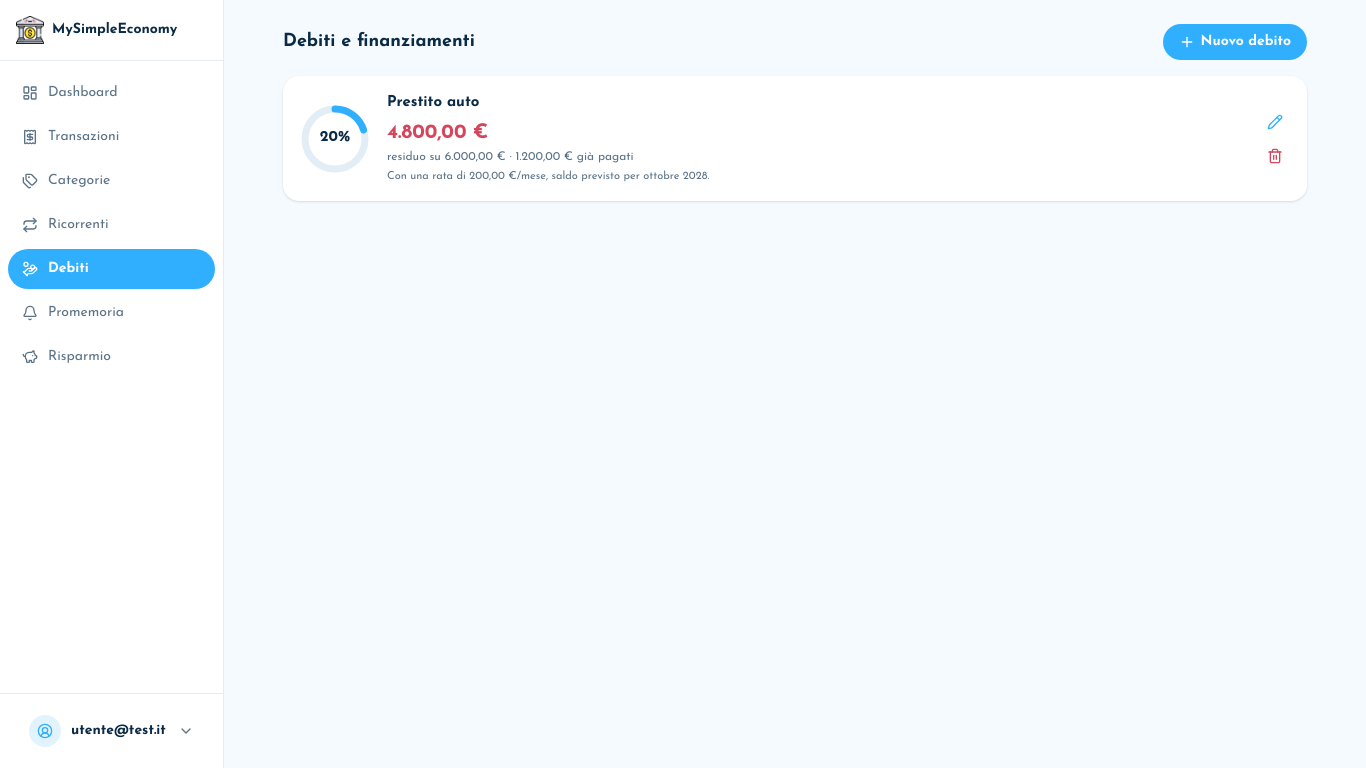
Scenario: tornare su una pagina già vista › con dati scaduti mostra quelli in cache e intanto li aggiorna
Expected: the text "Prestito auto" is shown, [387, 95, 479, 110]
Click the link "Promemoria": click(73, 313) [22, 305, 124, 321]
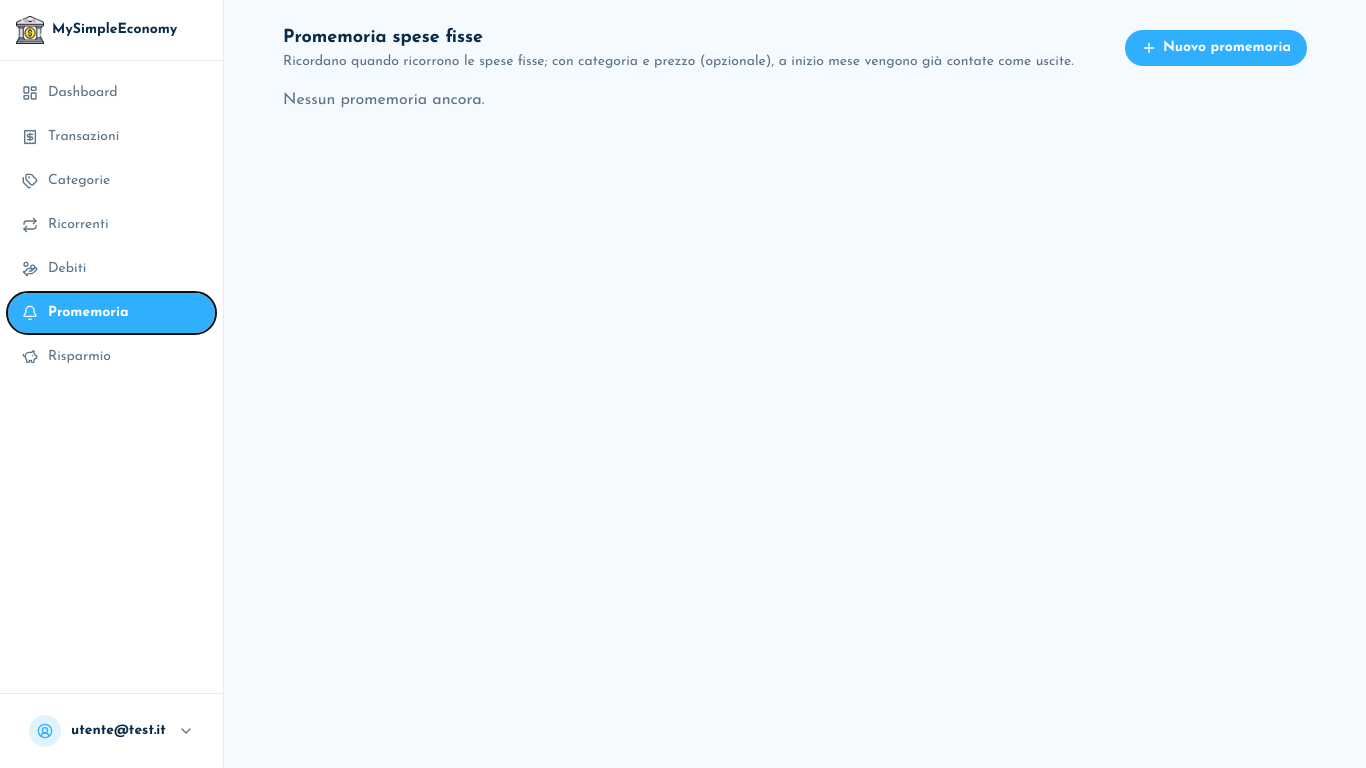
Result: the heading "Promemoria spese fisse" is shown at [283, 28, 483, 47]
Click the link "Debiti": click(54, 269) [22, 261, 86, 277]
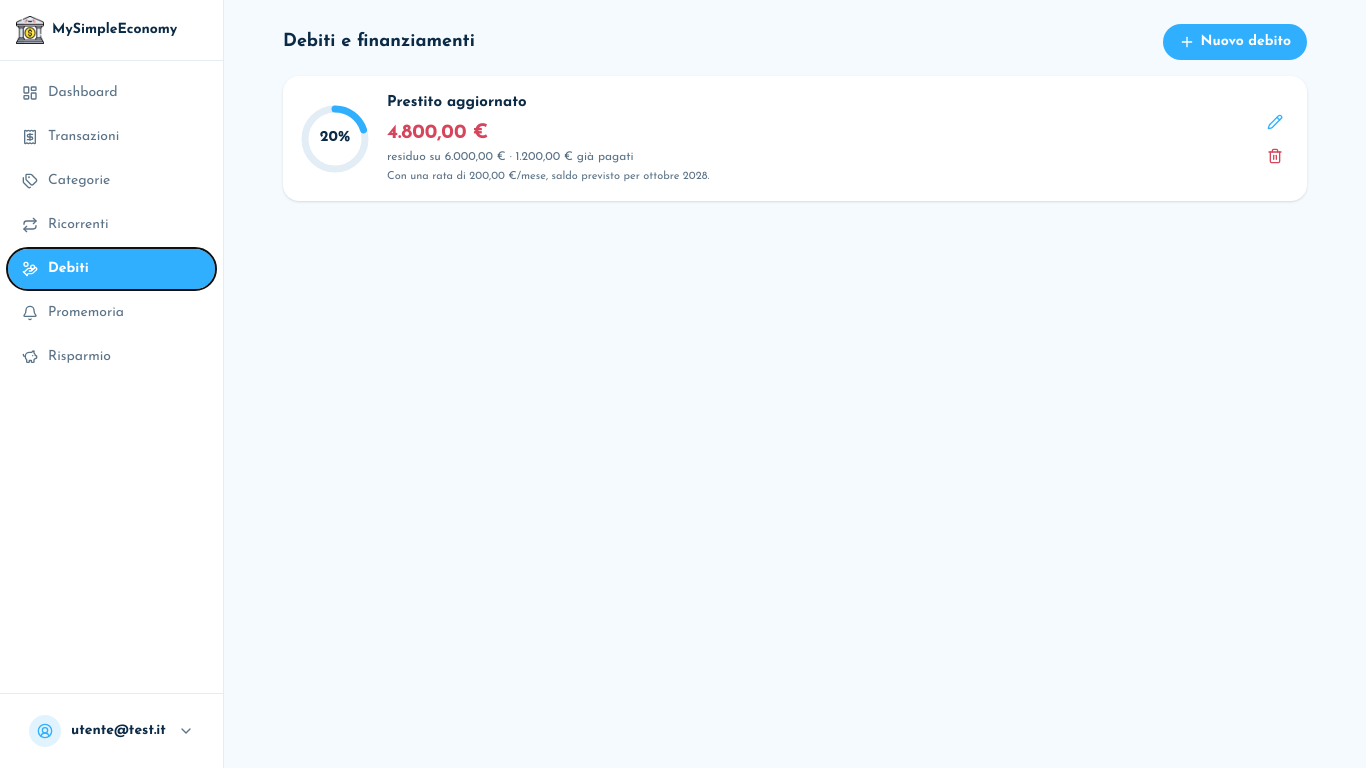
Result: the text "Prestito aggiornato" is shown at [387, 95, 527, 110]
